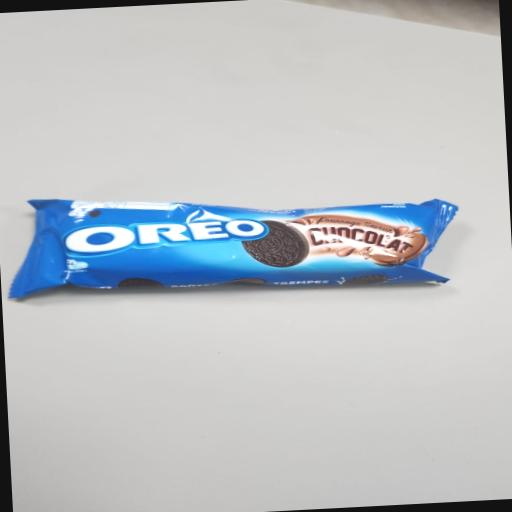oreo: (0, 123, 512, 348)
